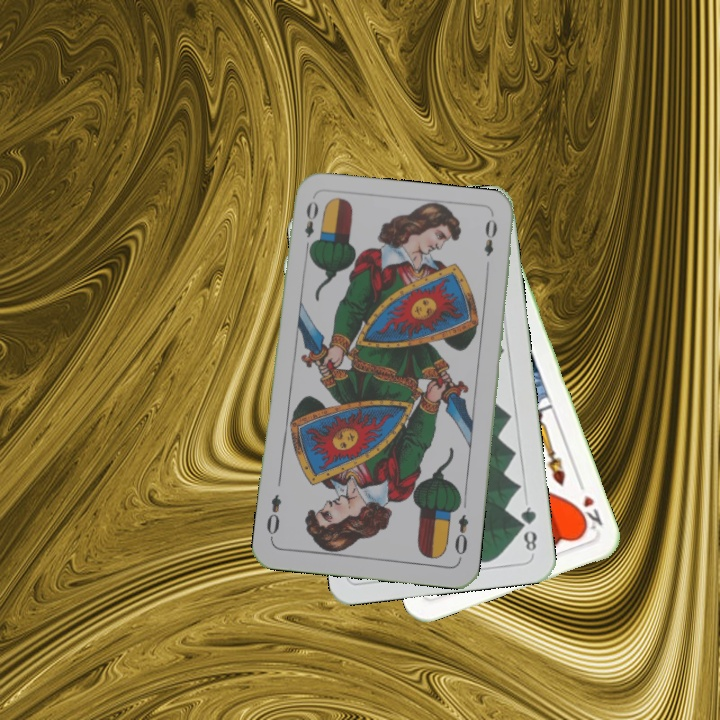EO: (300, 197, 321, 255), (450, 510, 472, 563)
G8: (516, 503, 540, 557)
HK: (572, 477, 605, 536)
